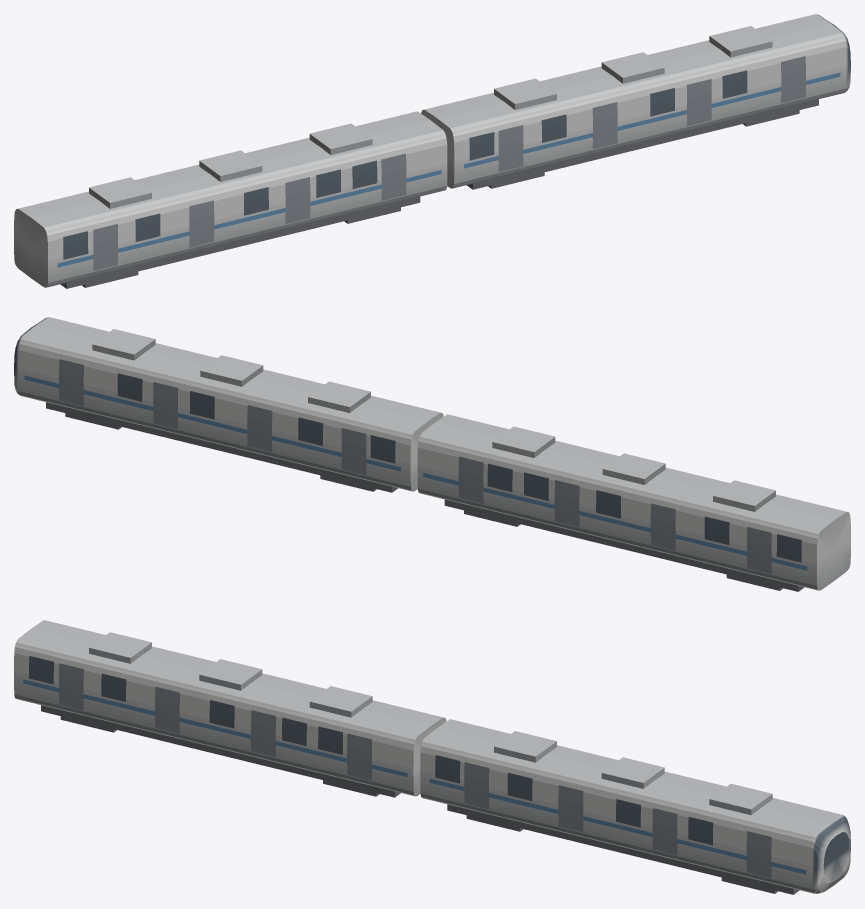
File: 06_more_transit_3x2-05.glb
The picture shows the model from 3 angles, top to bottom: view 1: azimuth 30°, elevation 25°; view 2: azimuth 150°, elevation 25°; view 3: azimuth 330°, elevation 25°; orthographic projection.
Size of the model in its own units: 42.36 by 3.88 by 3.14.
